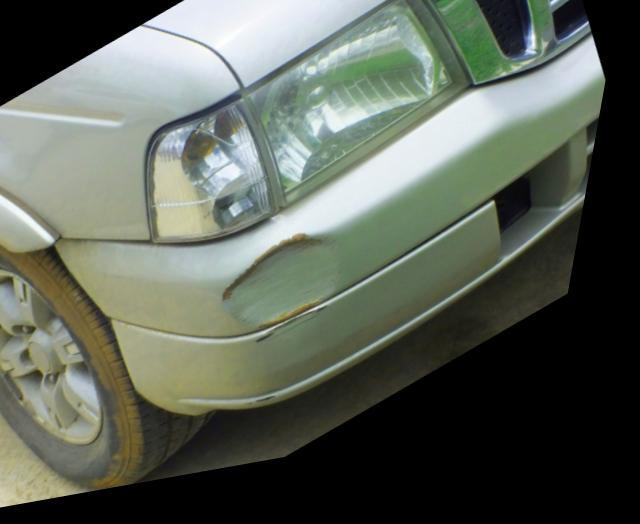dent: (237, 245, 354, 338)
scratch: (264, 319, 343, 363)
